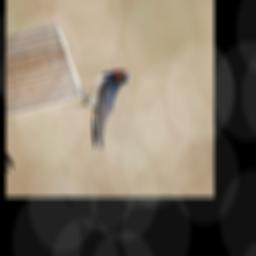Swallow: (62, 66, 159, 175)
